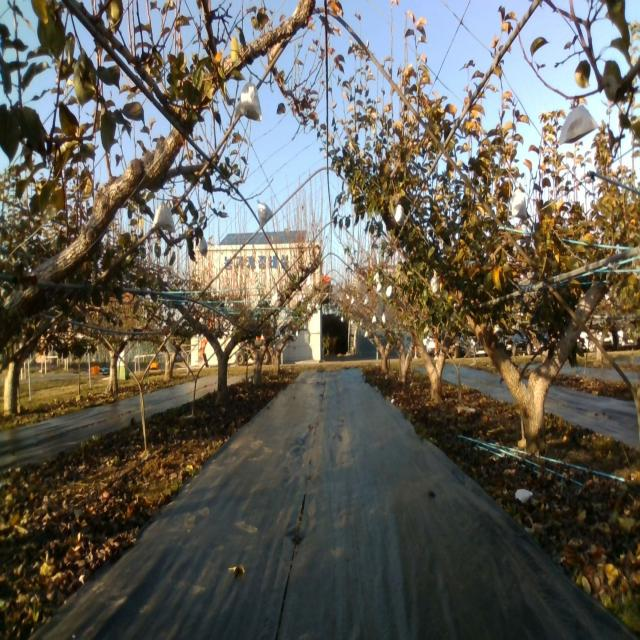pearbags: (560, 105, 597, 146), (235, 75, 262, 120), (153, 201, 175, 234), (256, 200, 274, 230), (510, 189, 527, 218), (392, 202, 404, 225)
